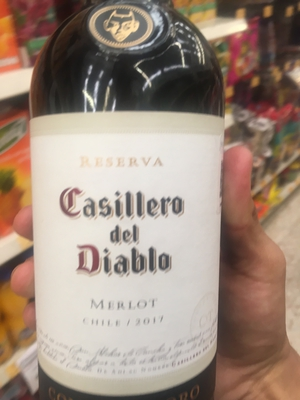casillero del diablo merlot: (26, 9, 225, 400)
